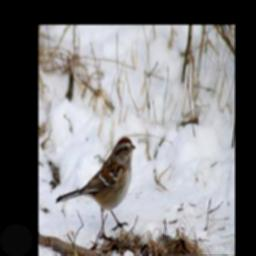Sparrow: (56, 132, 138, 244)
